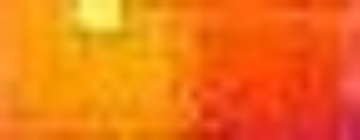Hotspot: (79, 1, 124, 34)
